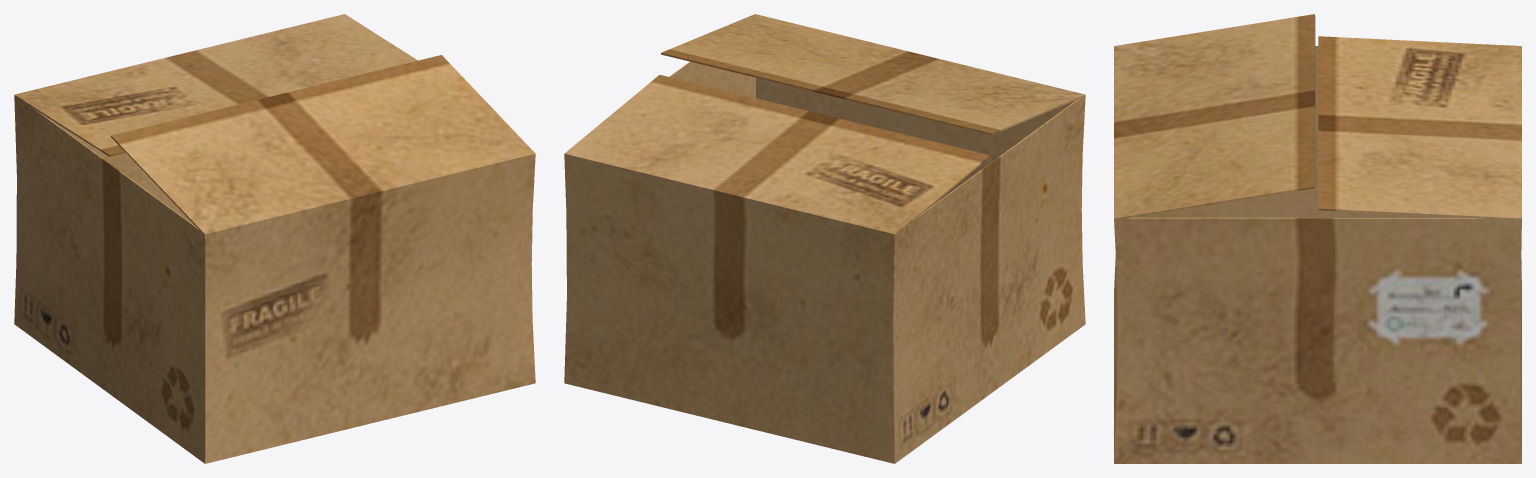
Rendered from carton.glb.
The picture shows the model from 3 angles, left to right: view 1: azimuth 30°, elevation 25°; view 2: azimuth 150°, elevation 25°; view 3: azimuth 270°, elevation 25°; orthographic projection. The views are drawn at different scales.
Parts seen in each view (by area): view 1: Cube; view 2: Cube; view 3: Cube.
Boxes of the visible parts, x1,y1,x2,y2 form: Cube: [14, 14, 535, 463]; Cube: [564, 14, 1085, 463]; Cube: [1114, 14, 1521, 463].
Bounding box in the file's own units: 1.61 × 1.21 × 1.61.
1 material, 1 textured.
